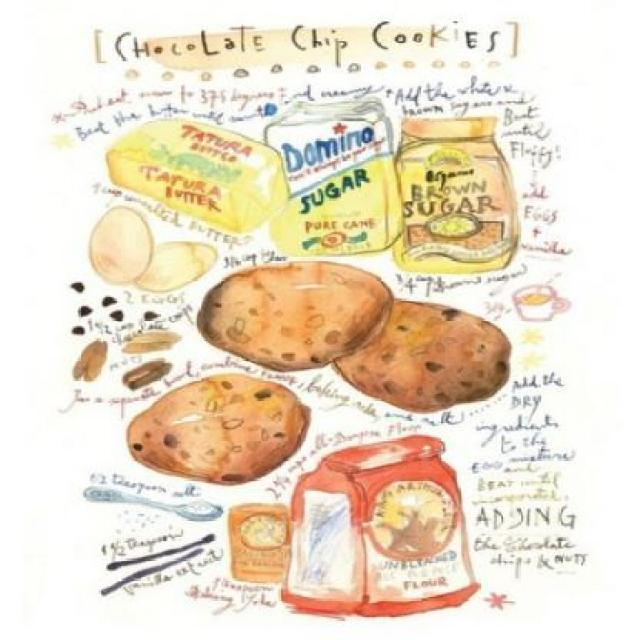Potato: (199, 260, 393, 374), (332, 298, 514, 412), (128, 374, 309, 484)
